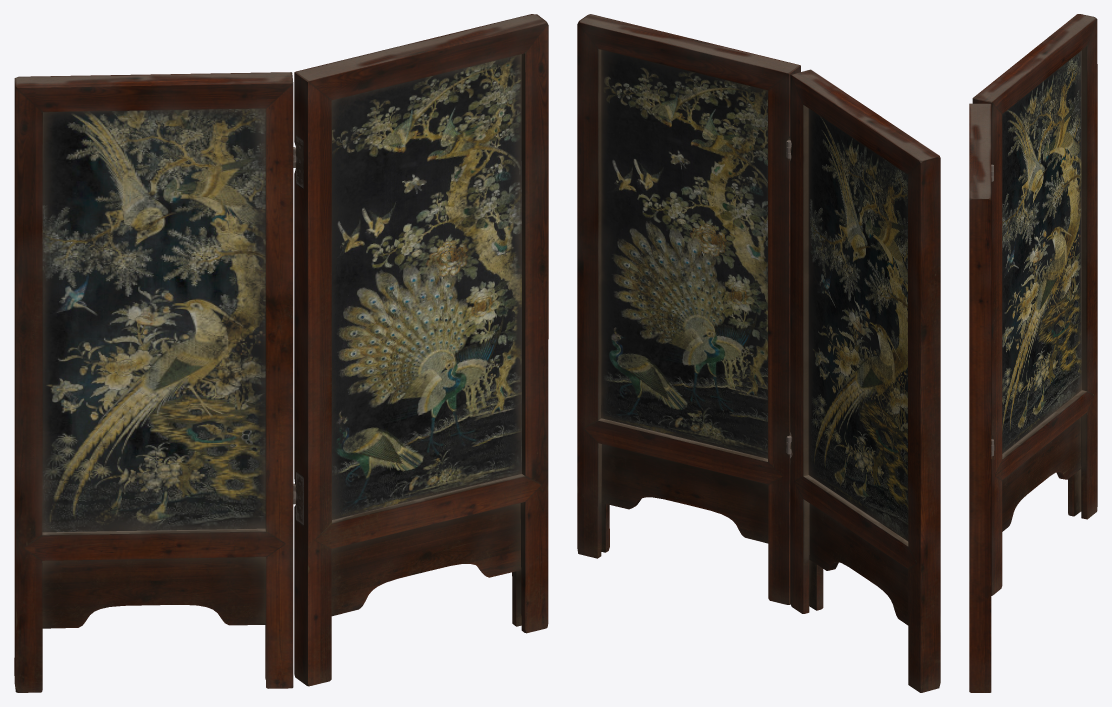
The model's file is chinese_screen_panels_2k.fbx.
3 renders of one model, left to right at view 1: azimuth 30°, elevation 25°; view 2: azimuth 150°, elevation 25°; view 3: azimuth 270°, elevation 25°, orthographic. The views are drawn at different scales.
Visible parts, largest first — view 1: chinese_screen_panels_b; view 2: chinese_screen_panels_b; view 3: chinese_screen_panels_b.
Part boxes in pixels (x1,y1,x2,y2): chinese_screen_panels_b: (14, 14, 548, 692); chinese_screen_panels_b: (577, 14, 940, 692); chinese_screen_panels_b: (969, 14, 1097, 692).
Size of the model in its own units: 129 by 160 by 37.69.
Materials: 1 (1 with a texture image).
